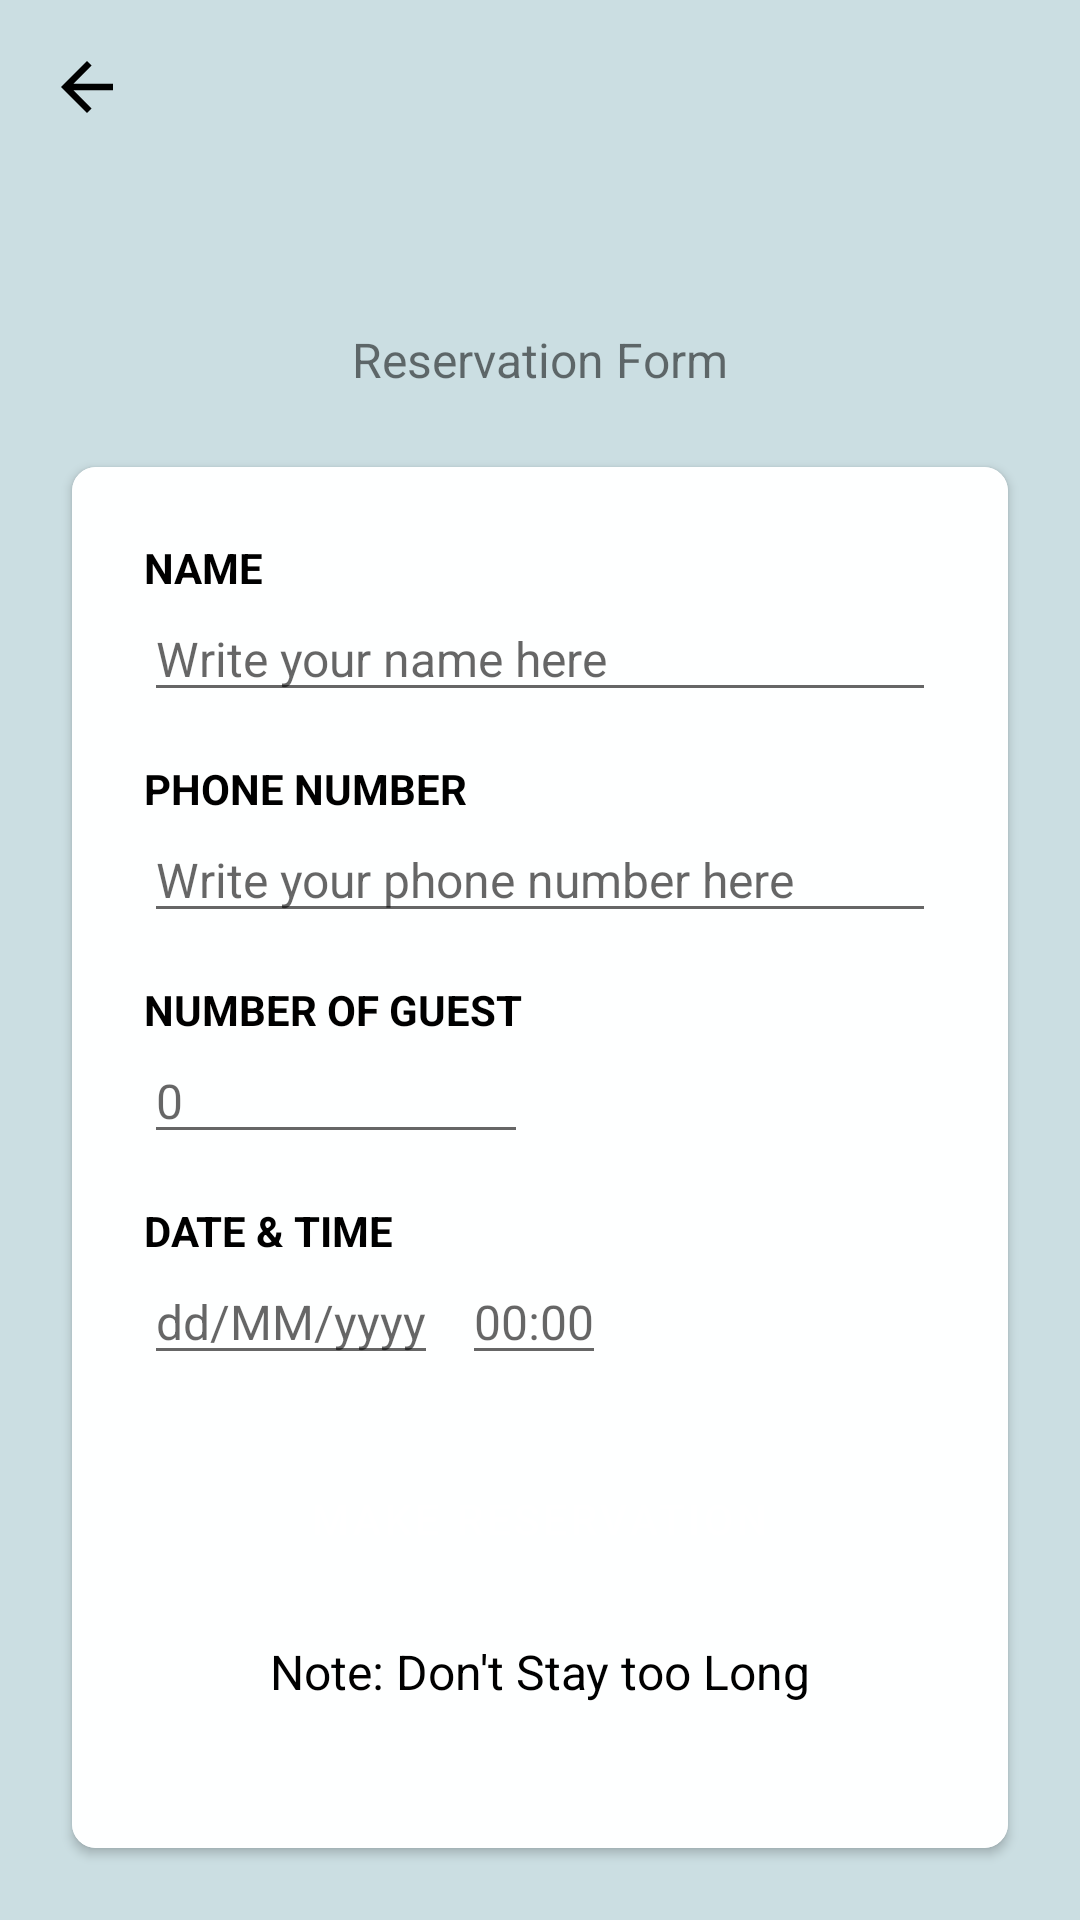

Point at icon controls on the screen. Image size 1080×1920, points as [x,y].
arrow back: [87,87]
